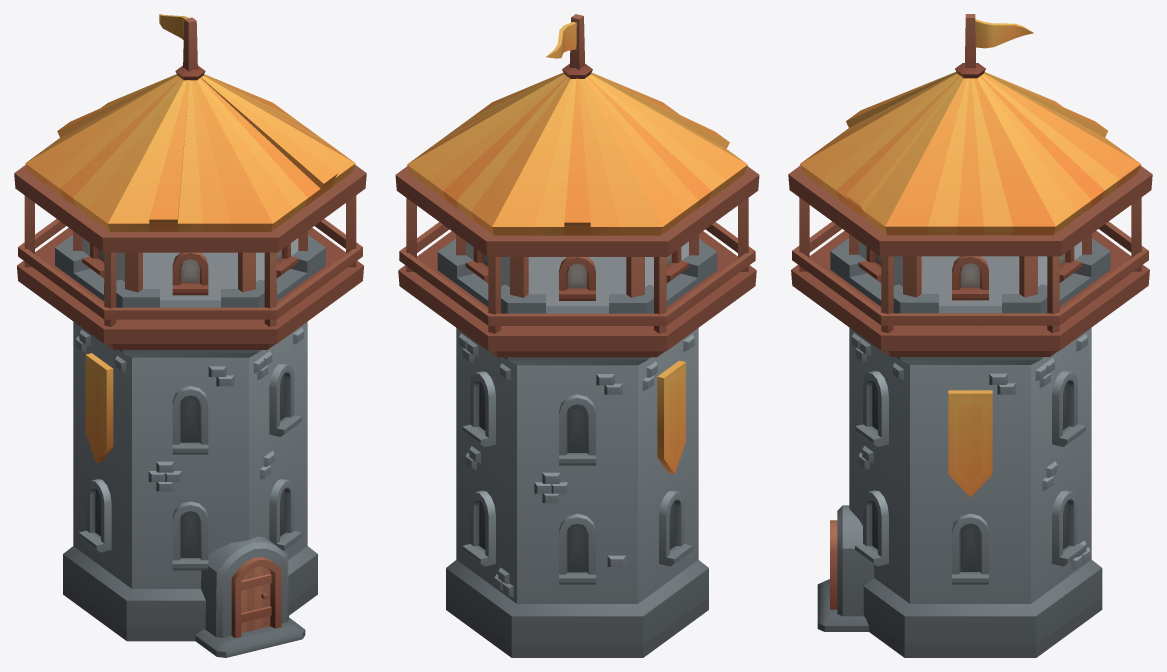
Rendered from building_tower_B_yellow.gltf.
The picture shows the model from 3 angles, left to right: view 1: azimuth 30°, elevation 25°; view 2: azimuth 150°, elevation 25°; view 3: azimuth 270°, elevation 25°; orthographic projection. The views are drawn at different scales.
Parts seen in each view (by area): view 1: building_tower_B_yellow, building_tower_B_top_yellow; view 2: building_tower_B_yellow, building_tower_B_top_yellow; view 3: building_tower_B_yellow, building_tower_B_top_yellow.
Part boxes in pixels (<box>): building_tower_B_yellow: <box>55,235,325,657</box>; building_tower_B_top_yellow: <box>14,14,366,349</box>; building_tower_B_yellow: <box>437,238,717,657</box>; building_tower_B_top_yellow: <box>395,14,759,357</box>; building_tower_B_yellow: <box>817,238,1110,657</box>; building_tower_B_top_yellow: <box>788,14,1152,356</box>.
Bounding box in the file's own units: 1.2 × 2.49 × 1.38.
1 material, 1 textured.
